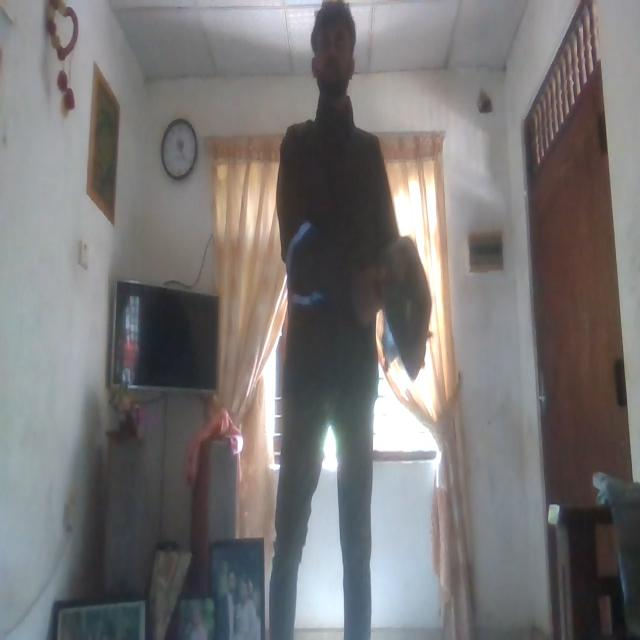Jacket_Wearer: (266, 103, 396, 386)
Person: (255, 0, 403, 640)
